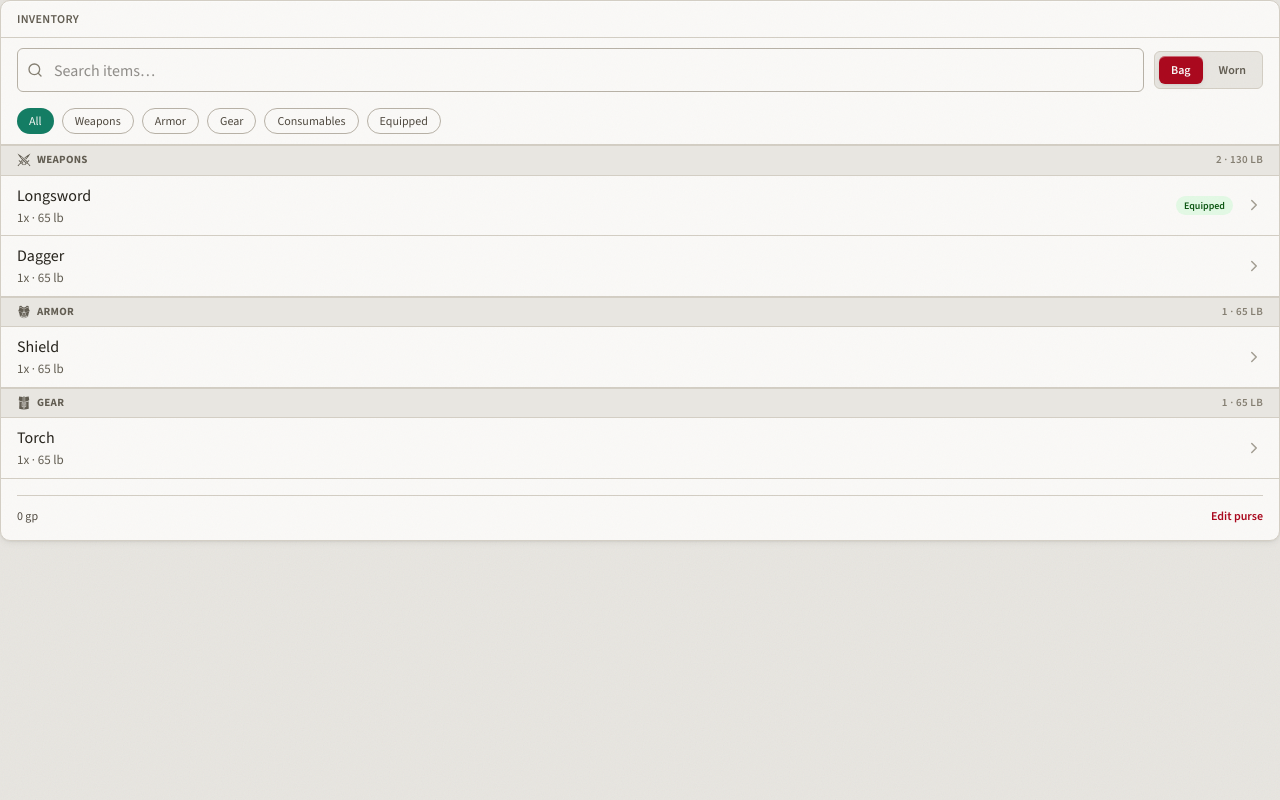
InventoryList search and filter › composes the search within the active filter
Click the button "Weapons". click: click(98, 121)
box: [62,108,134,134]
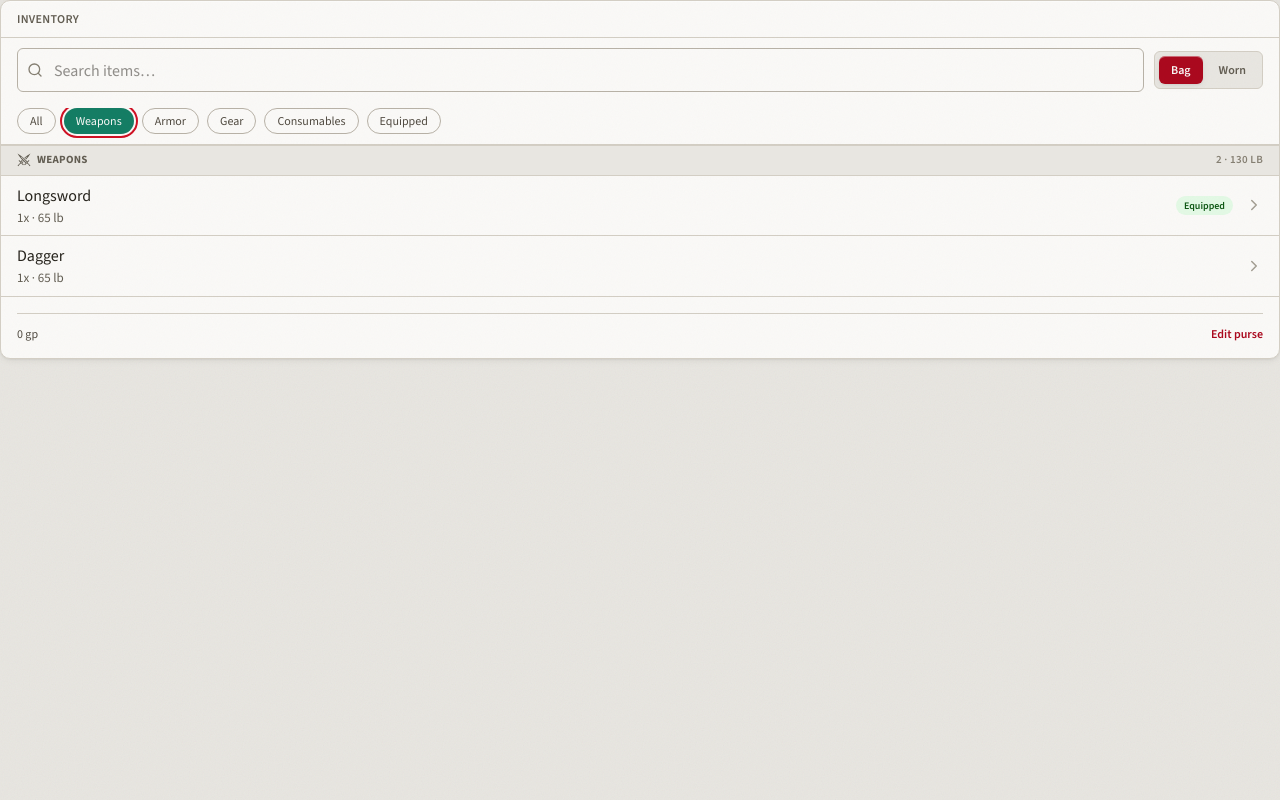
Type "dag" into the search field. click: (580, 70)
box: [17,48,1144,92]
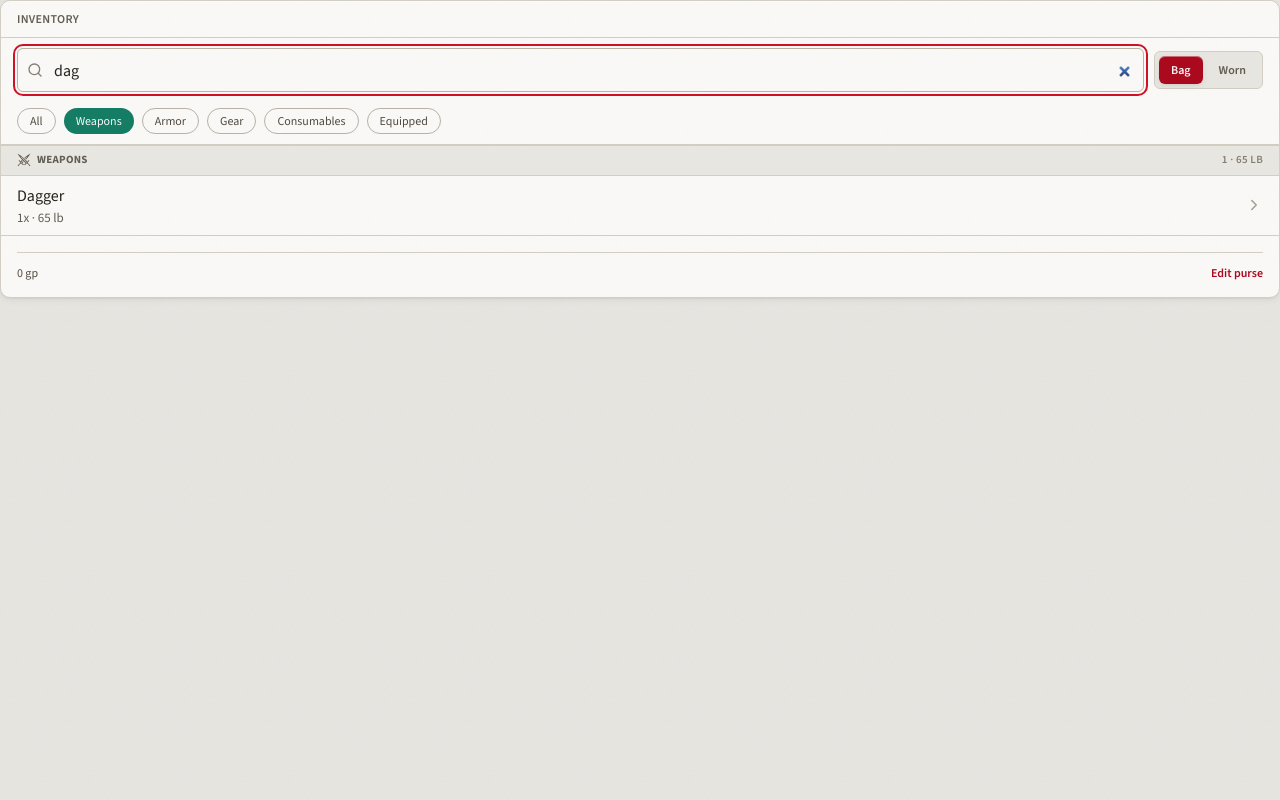
Check: the text "Dagger" is shown, box [17,184,64,206]
Check: the button "Longsword" is gone
